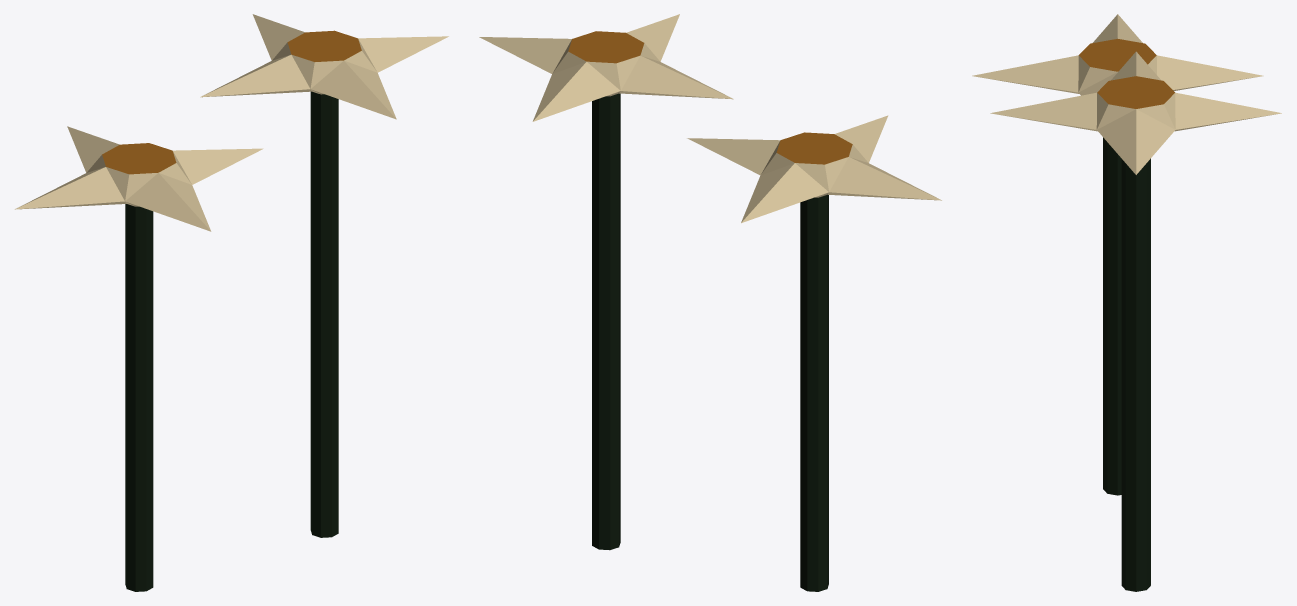
Rendered from Flower_Daisy_Cluster_01.fbx.
The picture shows the model from 3 angles, left to right: view 1: azimuth 30°, elevation 25°; view 2: azimuth 150°, elevation 25°; view 3: azimuth 270°, elevation 25°; orthographic projection. The views are drawn at different scales.
Visible parts, largest first — view 1: Flower_Daisy_Cluster_01_Mesh; view 2: Flower_Daisy_Cluster_01_Mesh; view 3: Flower_Daisy_Cluster_01_Mesh.
Boxes of the visible parts, left/top/right/bottom form: Flower_Daisy_Cluster_01_Mesh: left=14, top=14, right=448, bottom=591; Flower_Daisy_Cluster_01_Mesh: left=479, top=14, right=941, bottom=591; Flower_Daisy_Cluster_01_Mesh: left=972, top=14, right=1281, bottom=591.
Bounding box in the file's own units: 0.32 × 0.334 × 0.1913.
Materials: 1 (1 with a texture image).
